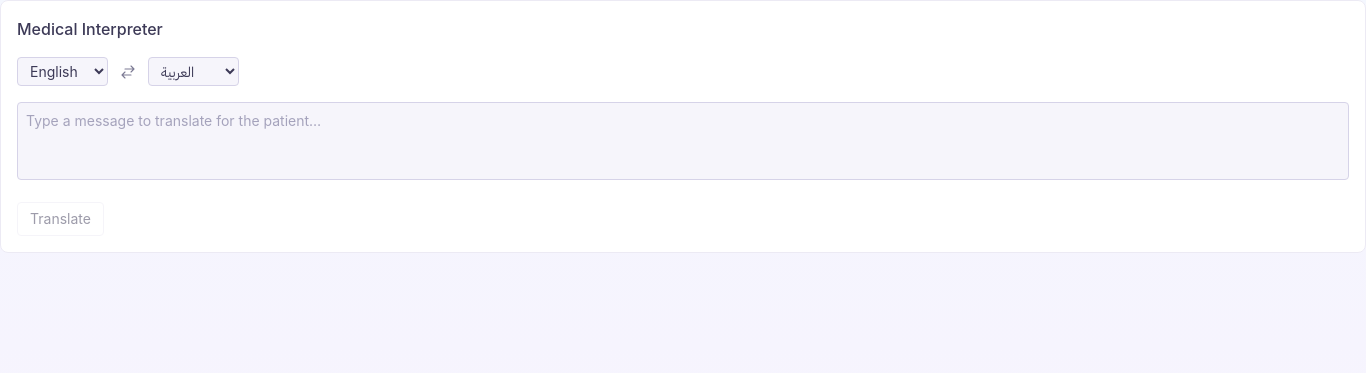
it: InterpreterPanel › shows fallback message when translation is null
Type "Test message" into the text box with test id "interpreter-message-input" at [683, 141], box [17,102,1349,180]
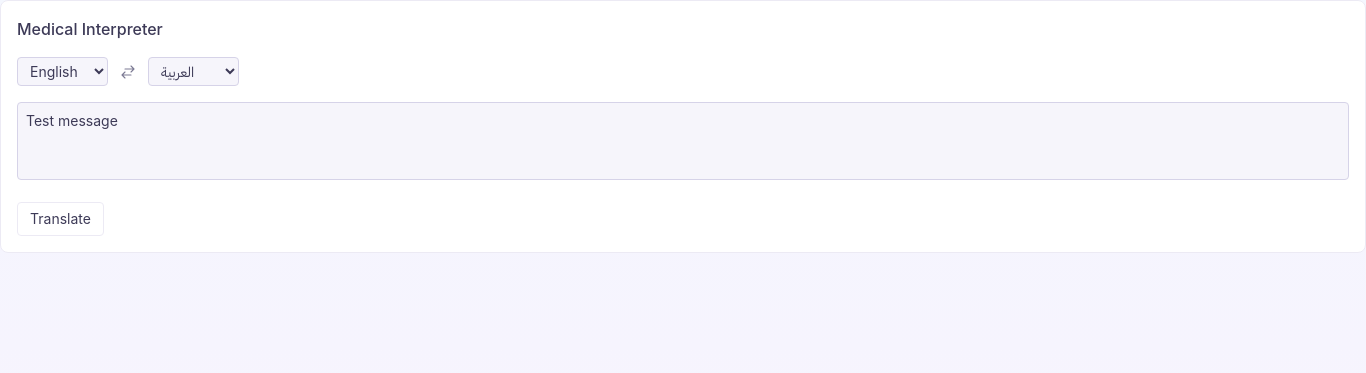
Click the button with test id "translate-btn" at [60, 219], box [17,202,104,236]
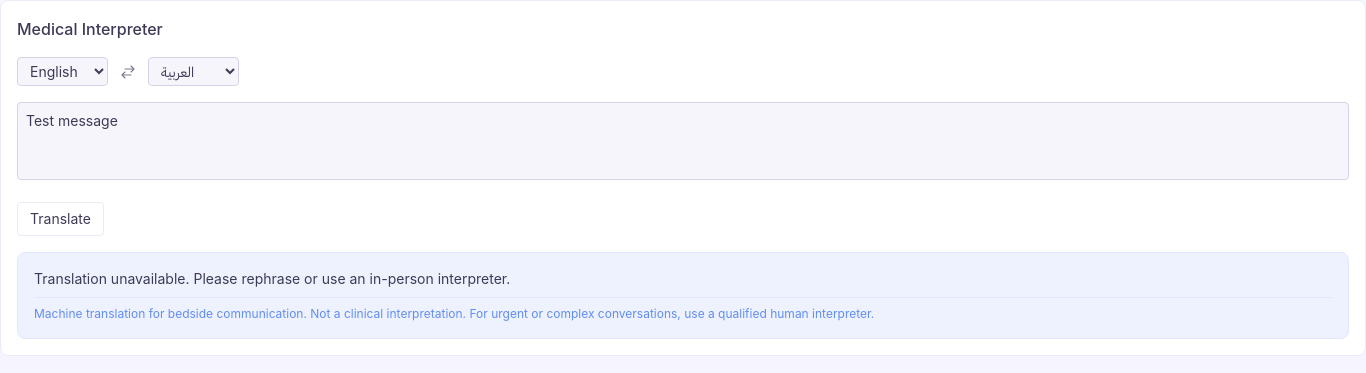
Now the element with test id "translation-result" is shown, box [17,252,1349,339]
Now the element with test id "translation-result" shows "Translation unavailable", box [34,270,510,287]
